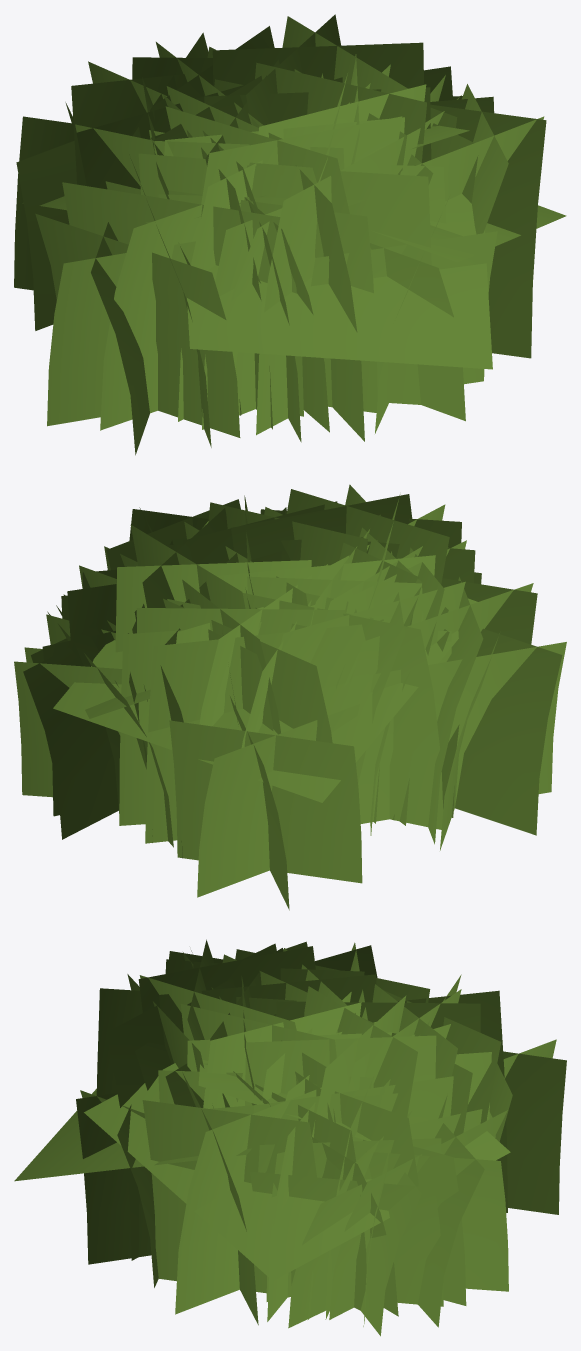
The model's file is wildflower_clump.glb.
3 renders of one model, top to bottom at view 1: azimuth 30°, elevation 25°; view 2: azimuth 150°, elevation 25°; view 3: azimuth 270°, elevation 25°, orthographic. The views are drawn at different scales.
Visible parts, largest first — view 1: wildflower_clump_lod0; view 2: wildflower_clump_lod0; view 3: wildflower_clump_lod0.
Boxes of the visible parts, <box> form: wildflower_clump_lod0: <box>14,14,566,455</box>; wildflower_clump_lod0: <box>14,484,566,910</box>; wildflower_clump_lod0: <box>14,939,566,1336</box>.
Size of what is drawn, in the model's own units: 1.04 by 0.5039 by 1.05.
